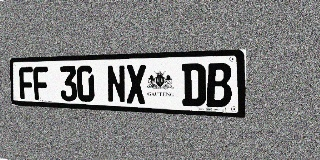0: (76, 65, 94, 102)
3: (60, 66, 77, 101)
B: (206, 63, 232, 108)
D: (182, 63, 205, 107)
F: (33, 66, 49, 100), (19, 67, 34, 100)
N: (106, 65, 126, 103)
X: (126, 64, 146, 104)
